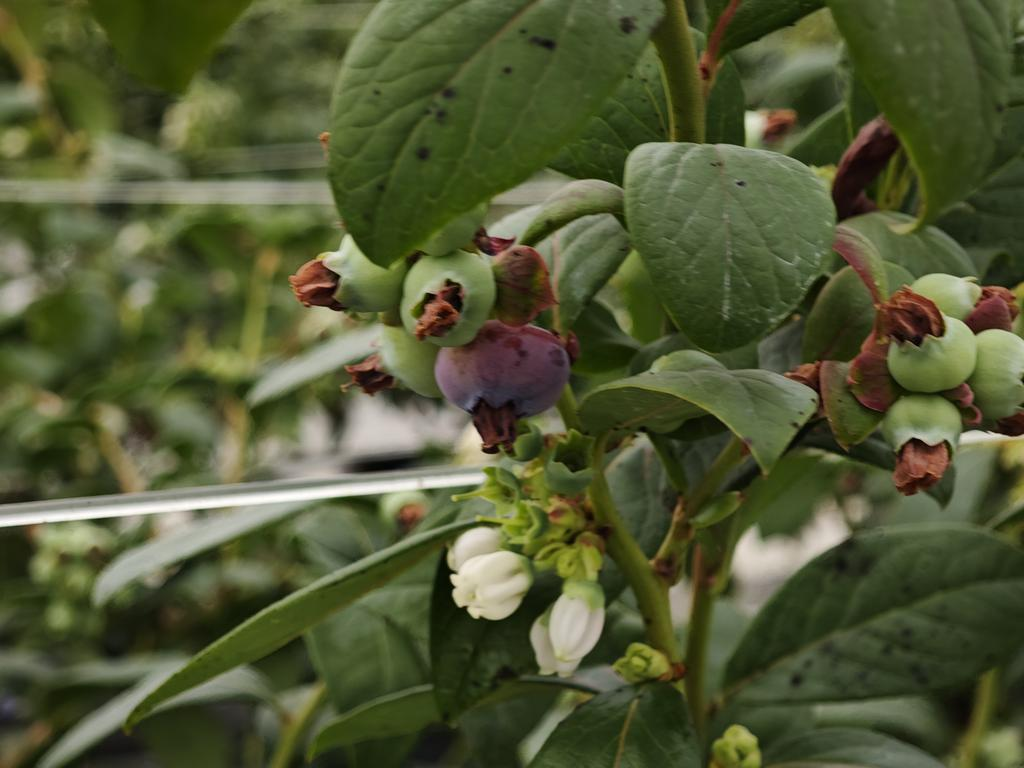Semi-RipeBlueBerry: (434, 318, 572, 419)
UnripeBlueBerry: (398, 245, 495, 344)
